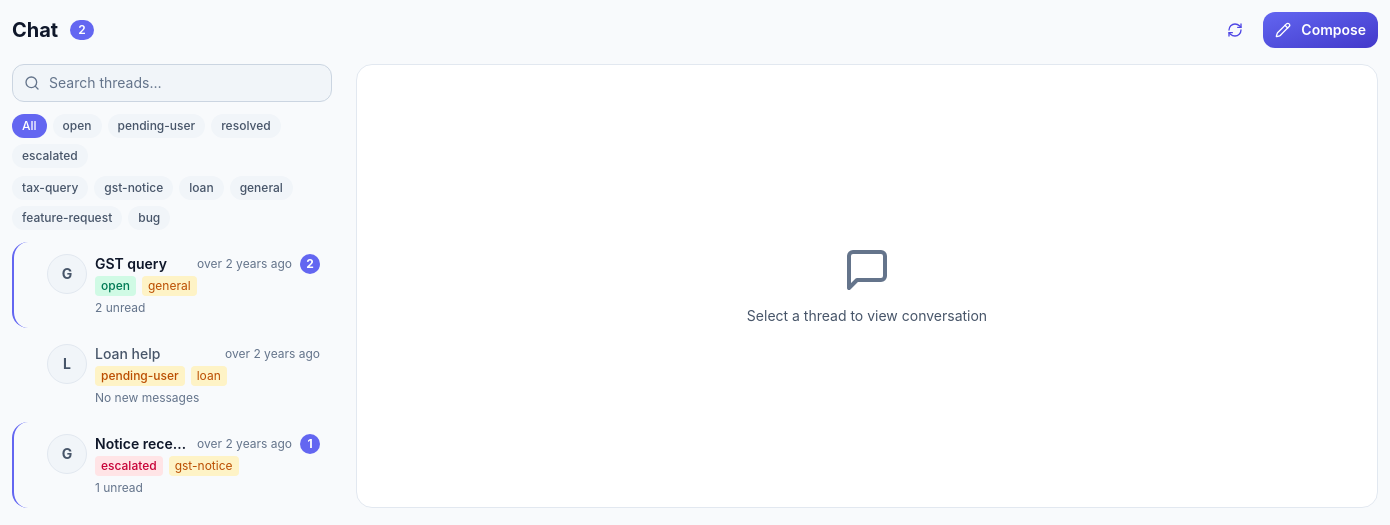
Test case: ChatInboxPage › clicking a category chip filters thread list client-side
The width and height of the screenshot is (1390, 525).
expect the text "GST query" is shown: met, box [95, 254, 167, 274]
// Click "loan" category — only Loan help should remain visible
Click the button "loan".
click(201, 188)  # box [179, 176, 224, 200]
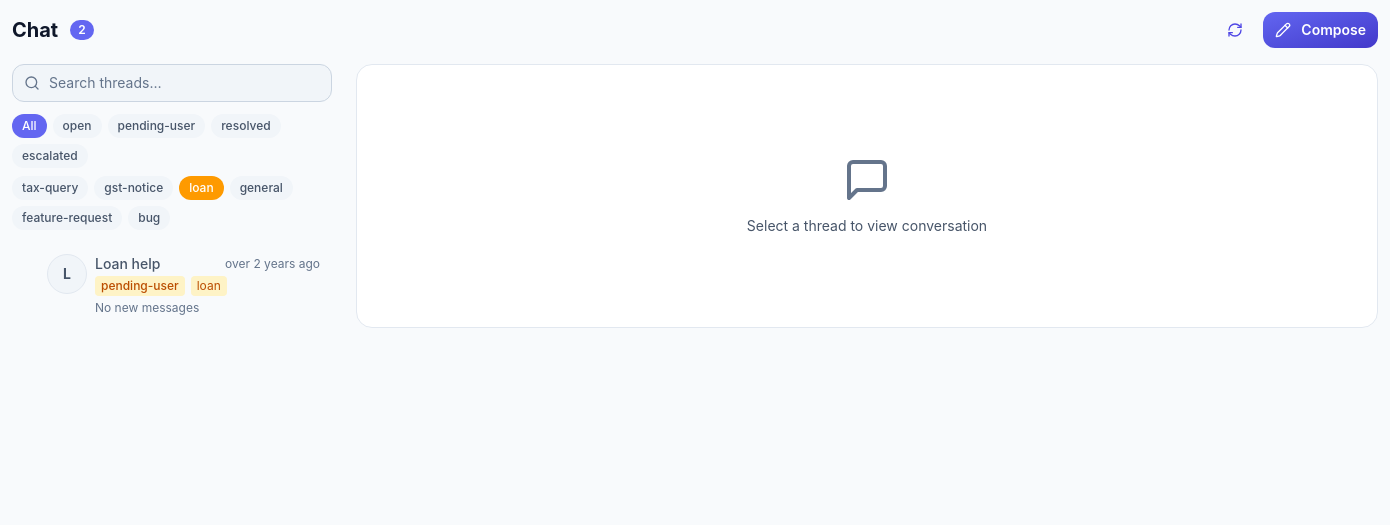
expect the text "Loan help" is shown: met, box [95, 254, 160, 274]
expect the text "GST query" is gone: met
